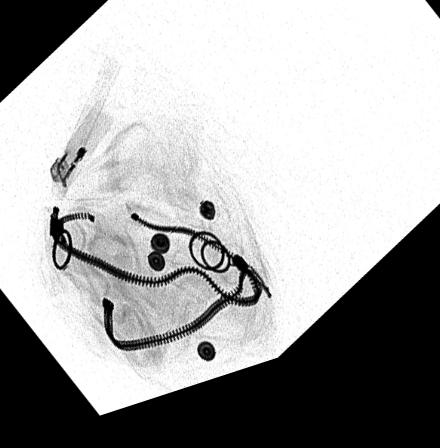Lighter: (49, 62, 123, 193)
